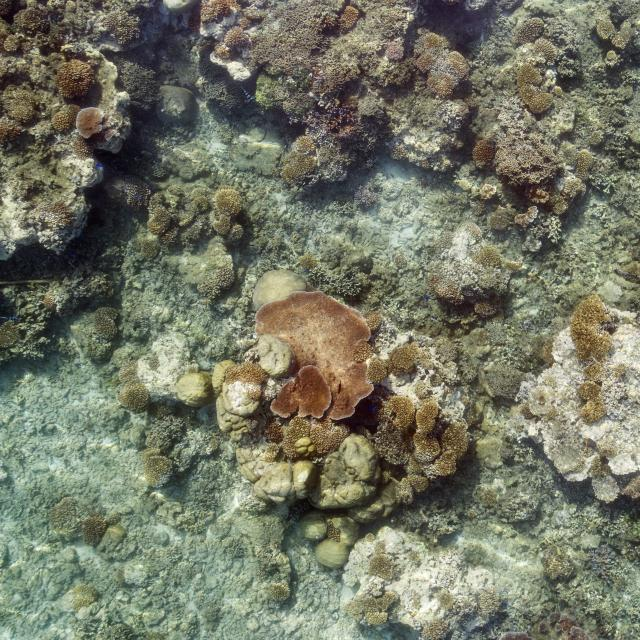Bleached Coral: (228, 381, 246, 411)
Healthy Coral: (256, 288, 382, 421), (381, 394, 474, 492), (572, 293, 614, 364), (280, 136, 317, 197), (254, 270, 307, 305), (53, 60, 101, 97), (520, 58, 550, 117), (122, 60, 160, 106), (579, 363, 608, 422), (347, 589, 392, 626), (214, 27, 255, 65), (217, 186, 243, 243), (145, 208, 182, 248), (0, 85, 36, 123), (74, 101, 107, 142), (109, 10, 144, 48), (545, 613, 592, 640), (390, 345, 422, 377), (429, 276, 460, 306), (178, 373, 206, 406), (96, 304, 119, 344), (212, 259, 239, 291), (84, 514, 110, 547), (199, 0, 230, 27), (74, 583, 105, 609), (117, 388, 150, 411), (369, 553, 396, 579), (514, 16, 550, 35), (474, 138, 494, 172), (474, 246, 503, 267), (475, 298, 500, 321), (514, 206, 541, 227), (0, 322, 18, 352), (534, 40, 559, 61), (338, 7, 360, 30), (269, 582, 291, 604), (525, 185, 550, 204), (1, 32, 22, 54), (547, 196, 571, 215), (490, 214, 508, 234), (392, 143, 410, 163), (480, 182, 496, 203), (580, 149, 591, 179), (562, 183, 585, 196)
